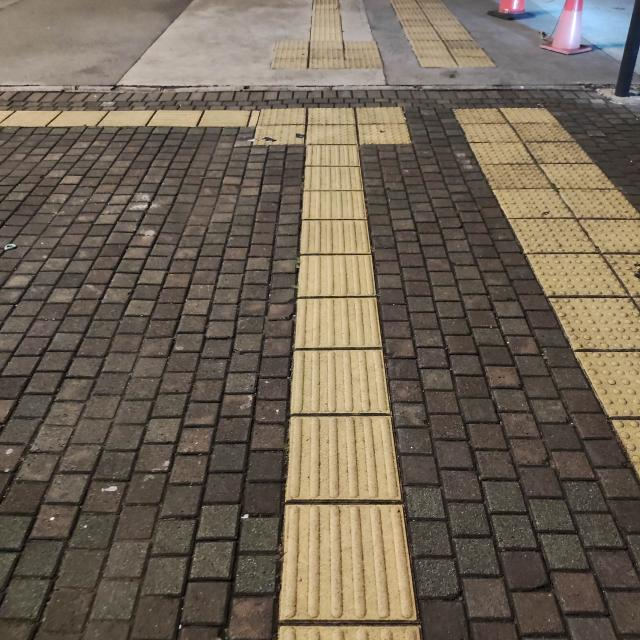kiri: (199, 81, 382, 178)
